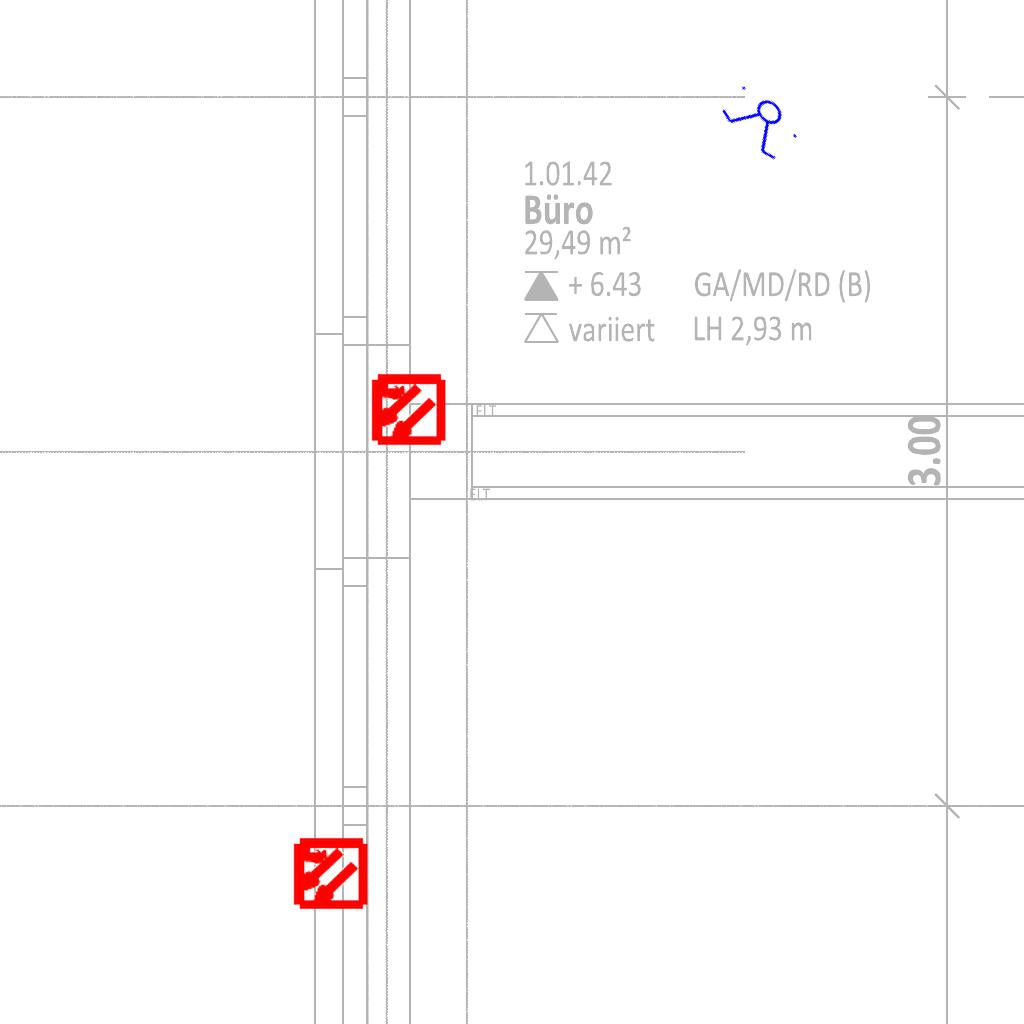OT_Multisensormelder_(Kombination_RMO_WMD): (350, 353, 463, 466), (272, 817, 385, 930)
Serienschalter: (713, 75, 809, 169)
